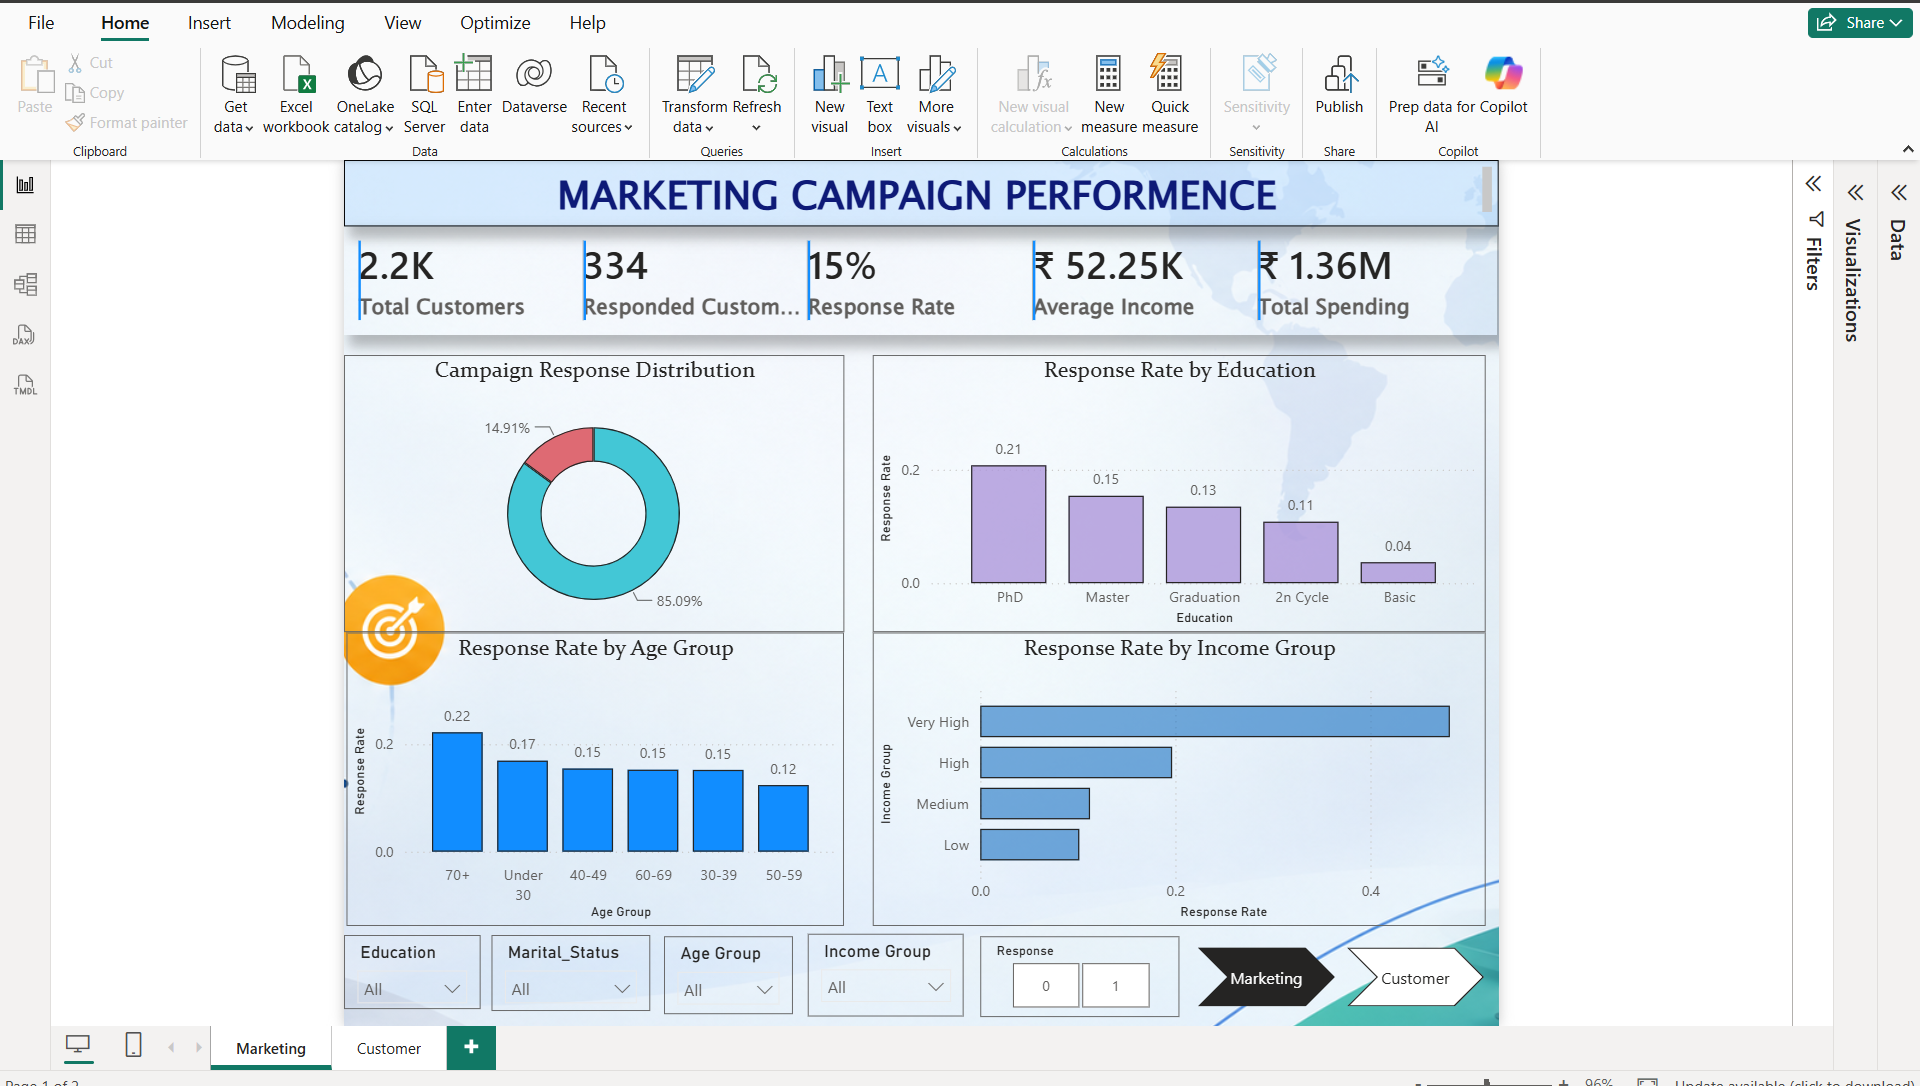

This screenshot's page, from the dashboard's own definition file:
{"tool":"powerbi","page":{"name":"Marketing","canvas":[960,720],"ordinal":0},"visuals":[{"type":"textbox","box":[0,0,960.3,55.1],"z":0},{"type":"cardVisual","fields":{"Data":["superstore_data.Total Customers","superstore_data.Responded Customers","superstore_data.Response Rate","superstore_data.Average Income","Sum(superstore_data.Total Spending)"]},"box":[0,55.1,958.2,90.4],"z":1000},{"type":"donutChart","title":"Campaign Response Distribution","fields":{"Y":["superstore_data.Total Customers"],"Category":["superstore_data.Response"]},"box":[0,162.1,415.7,230.7],"z":2000},{"type":"clusteredColumnChart","title":"Response Rate by Education","fields":{"Y":["superstore_data.Response Rate"],"Category":["superstore_data.Education"]},"box":[439.6,162.1,509.2,230.7],"z":3000},{"type":"clusteredColumnChart","fields":{"Category":["superstore_data.Age Group"],"Y":["superstore_data.Response Rate"]},"box":[2.1,392.8,413.6,244.2],"z":4000},{"type":"clusteredBarChart","fields":{"Category":["superstore_data.Income Group"],"Y":["superstore_data.Response Rate"]},"box":[439.6,392.8,509.2,244.2],"z":5000},{"type":"slicer","fields":{"Values":["superstore_data.Education"]},"box":[0,644.3,113.3,61.3],"z":6000},{"type":"slicer","fields":{"Values":["superstore_data.Marital_Status"]},"box":[122.6,644.3,132,63.4],"z":7000},{"type":"slicer","fields":{"Values":["superstore_data.Age Group"]},"box":[266.1,645.4,107,64.4],"z":8000},{"type":"slicer","fields":{"Values":["superstore_data.Income Group"]},"box":[385.6,643.3,129.9,68.6],"z":9000},{"type":"slicer","fields":{"Values":["superstore_data.Response"]},"box":[529,645.4,165.2,67.6],"z":10000},{"type":"pageNavigator","box":[709.8,654.7,239,49.9],"z":11000}]}

Visuals, with their boxes on the page's 960x720 design canvas (x1, y1, x2, y2). These are canvas units, not pixel positions in the 1920x1086 screenshot, which may show the page scaled, cropped or inside an application window:
textbox: 0,0,960,55
cardVisual - superstore_data.Total Customers x superstore_data.Responded Customers: 0,55,958,146
"Campaign Response Distribution" donutChart: 0,162,416,393
"Response Rate by Education" clusteredColumnChart: 440,162,949,393
clusteredColumnChart - superstore_data.Age Group x superstore_data.Response Rate: 2,393,416,637
clusteredBarChart - superstore_data.Income Group x superstore_data.Response Rate: 440,393,949,637
slicer - superstore_data.Education: 0,644,113,706
slicer - superstore_data.Marital_Status: 123,644,255,708
slicer - superstore_data.Age Group: 266,645,373,710
slicer - superstore_data.Income Group: 386,643,516,712
slicer - superstore_data.Response: 529,645,694,713
pageNavigator: 710,655,949,705
